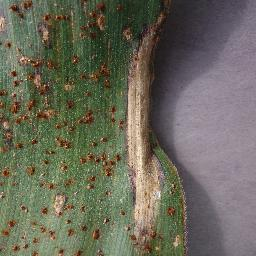Corn_Blight: (0, 0, 191, 255)
